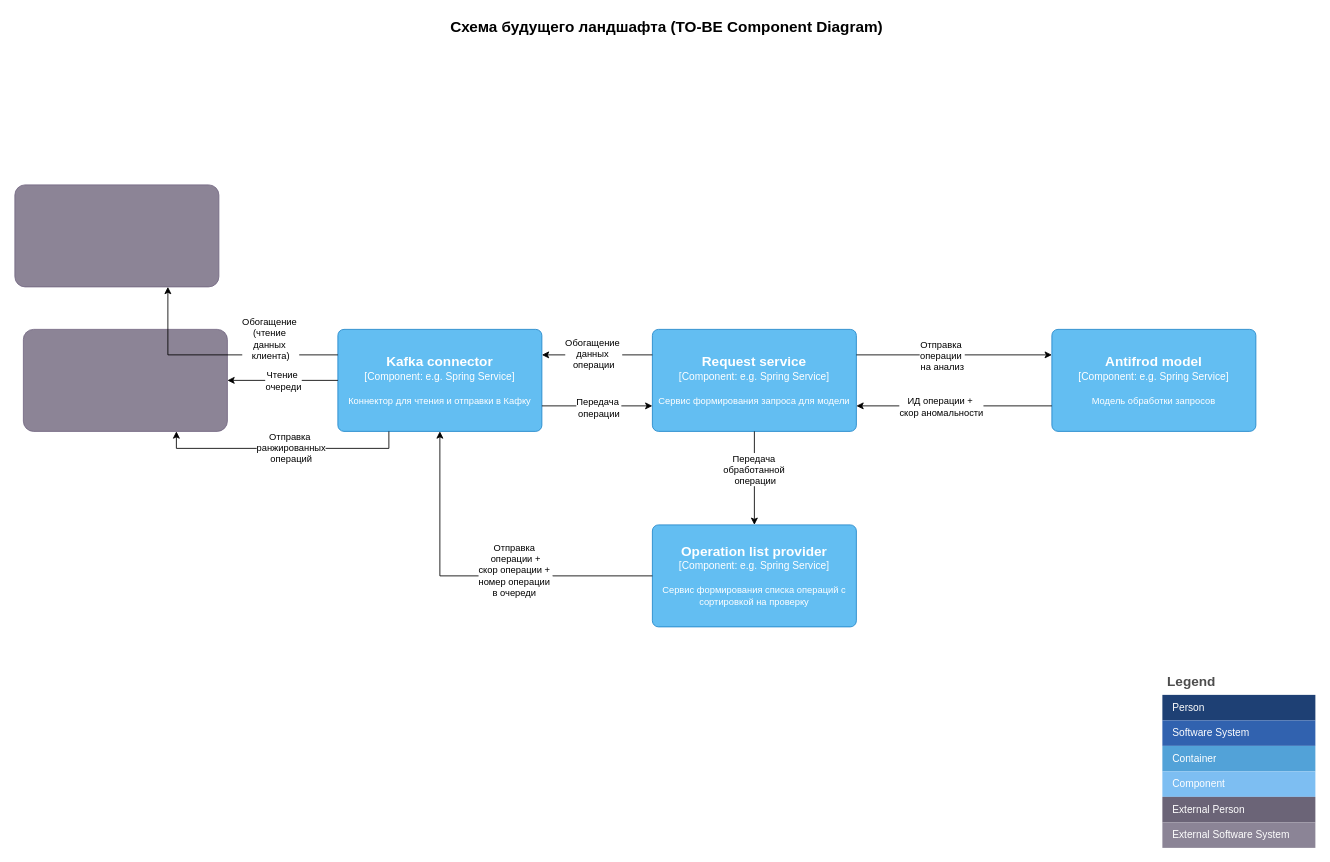
Some shapes in this 1330 by 862 pixel diagram are drawn without their labels. The shapes that lost their labels are listed below. From the top down, each one's centre as x and y in pixels, then its label:
pixel 116 235: Operation DB [Software] Операционная БД
pixel 125 380: Kafka [Software]
